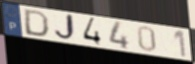0: (136, 25, 159, 53)
1: (172, 29, 187, 58)
4: (107, 20, 132, 51), (81, 16, 104, 47)
D: (23, 9, 51, 38)
J: (52, 13, 77, 42)
